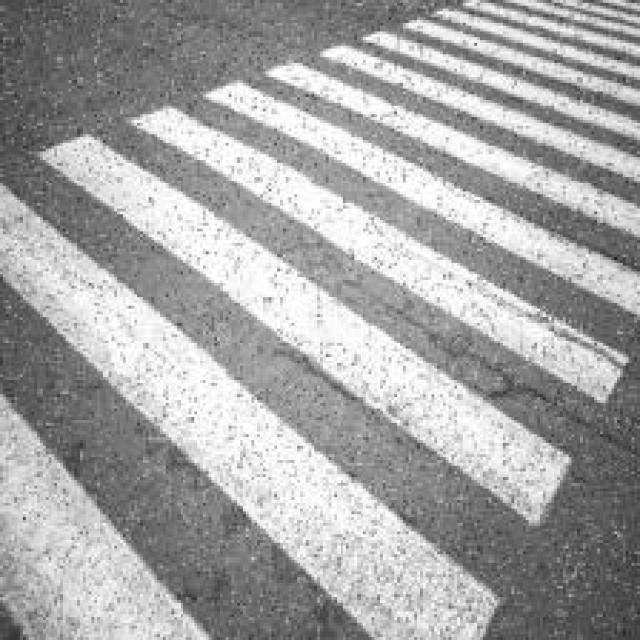crosswalk: (2, 2, 640, 640)
